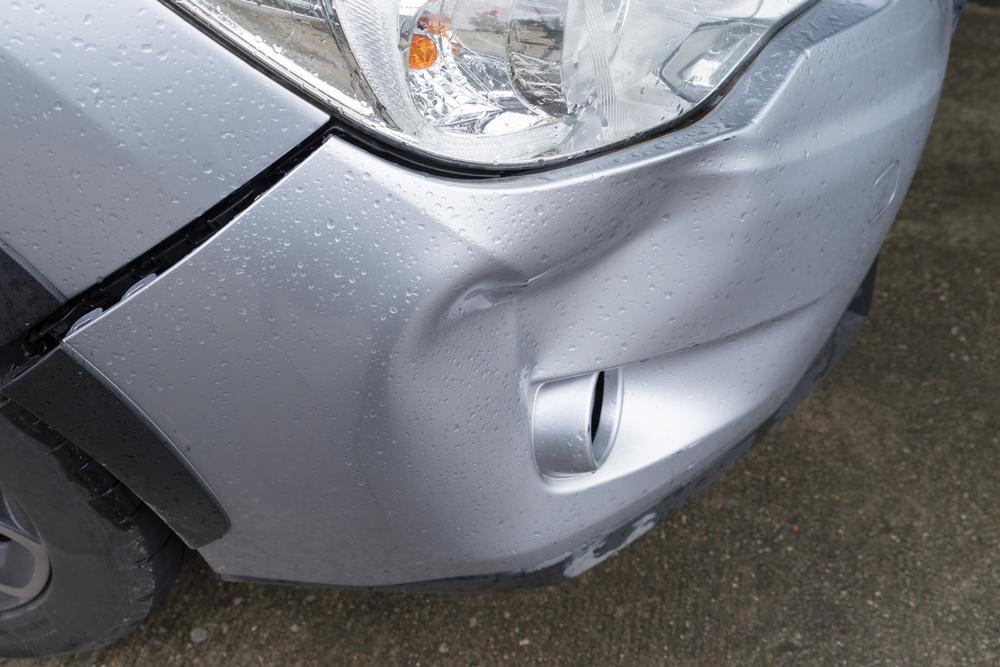dent: (422, 151, 730, 446)
scratch: (508, 503, 657, 581)
